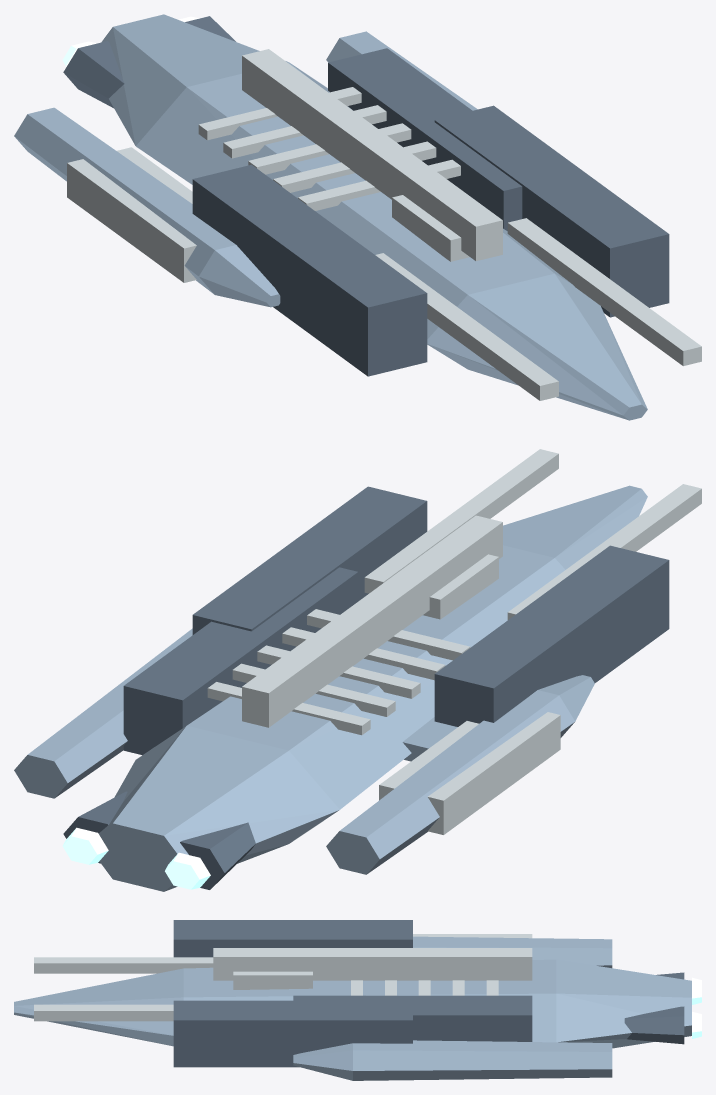
The picture shows the model from 3 angles, top to bottom: view 1: azimuth 30°, elevation 25°; view 2: azimuth 150°, elevation 25°; view 3: azimuth 270°, elevation 25°; orthographic projection. The views are drawn at different scales.
Size of the model in its own units: 3.36 by 1.1 by 7.8.
